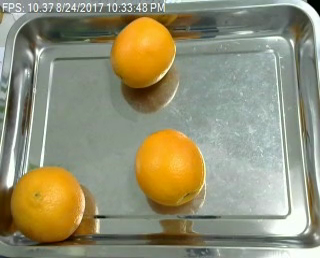Orange: (9, 164, 85, 243), (136, 129, 206, 207), (109, 14, 176, 88)
